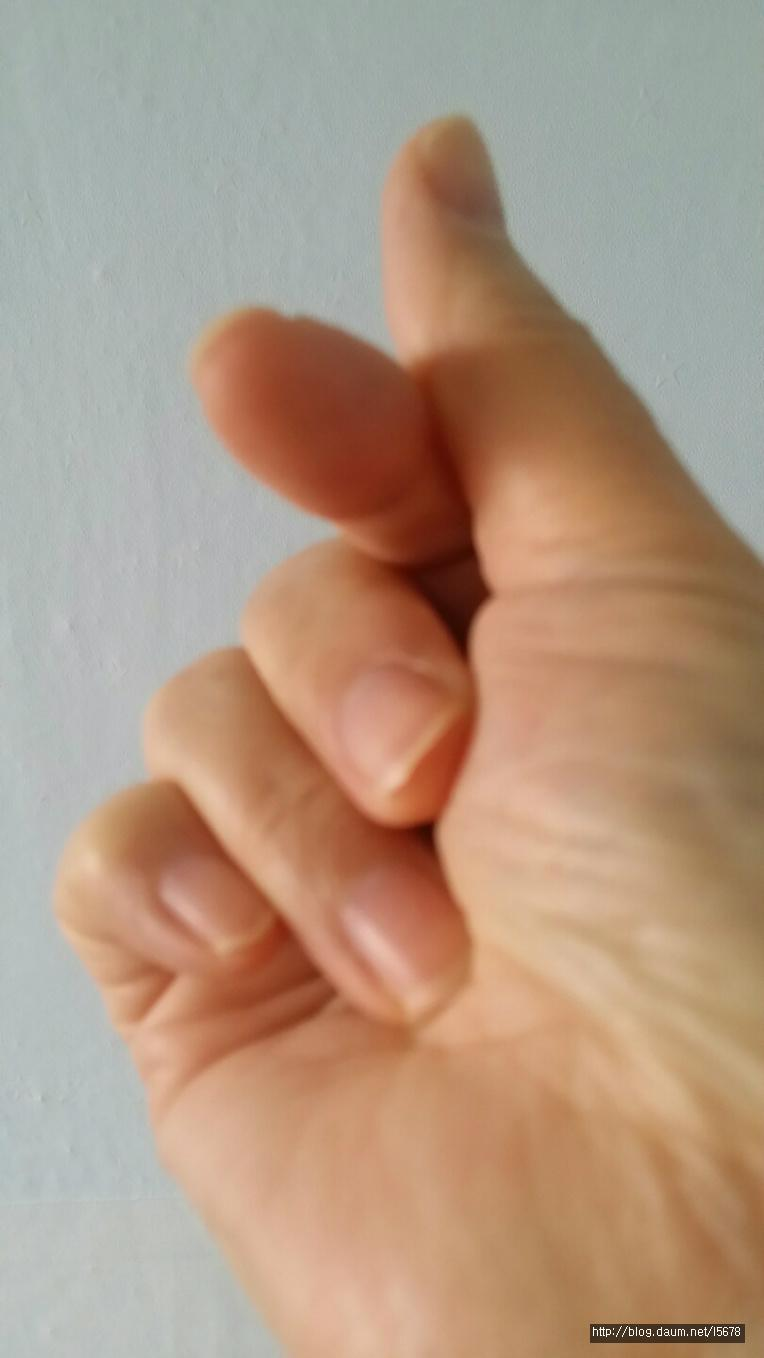heart gesture: (188, 103, 641, 545)
